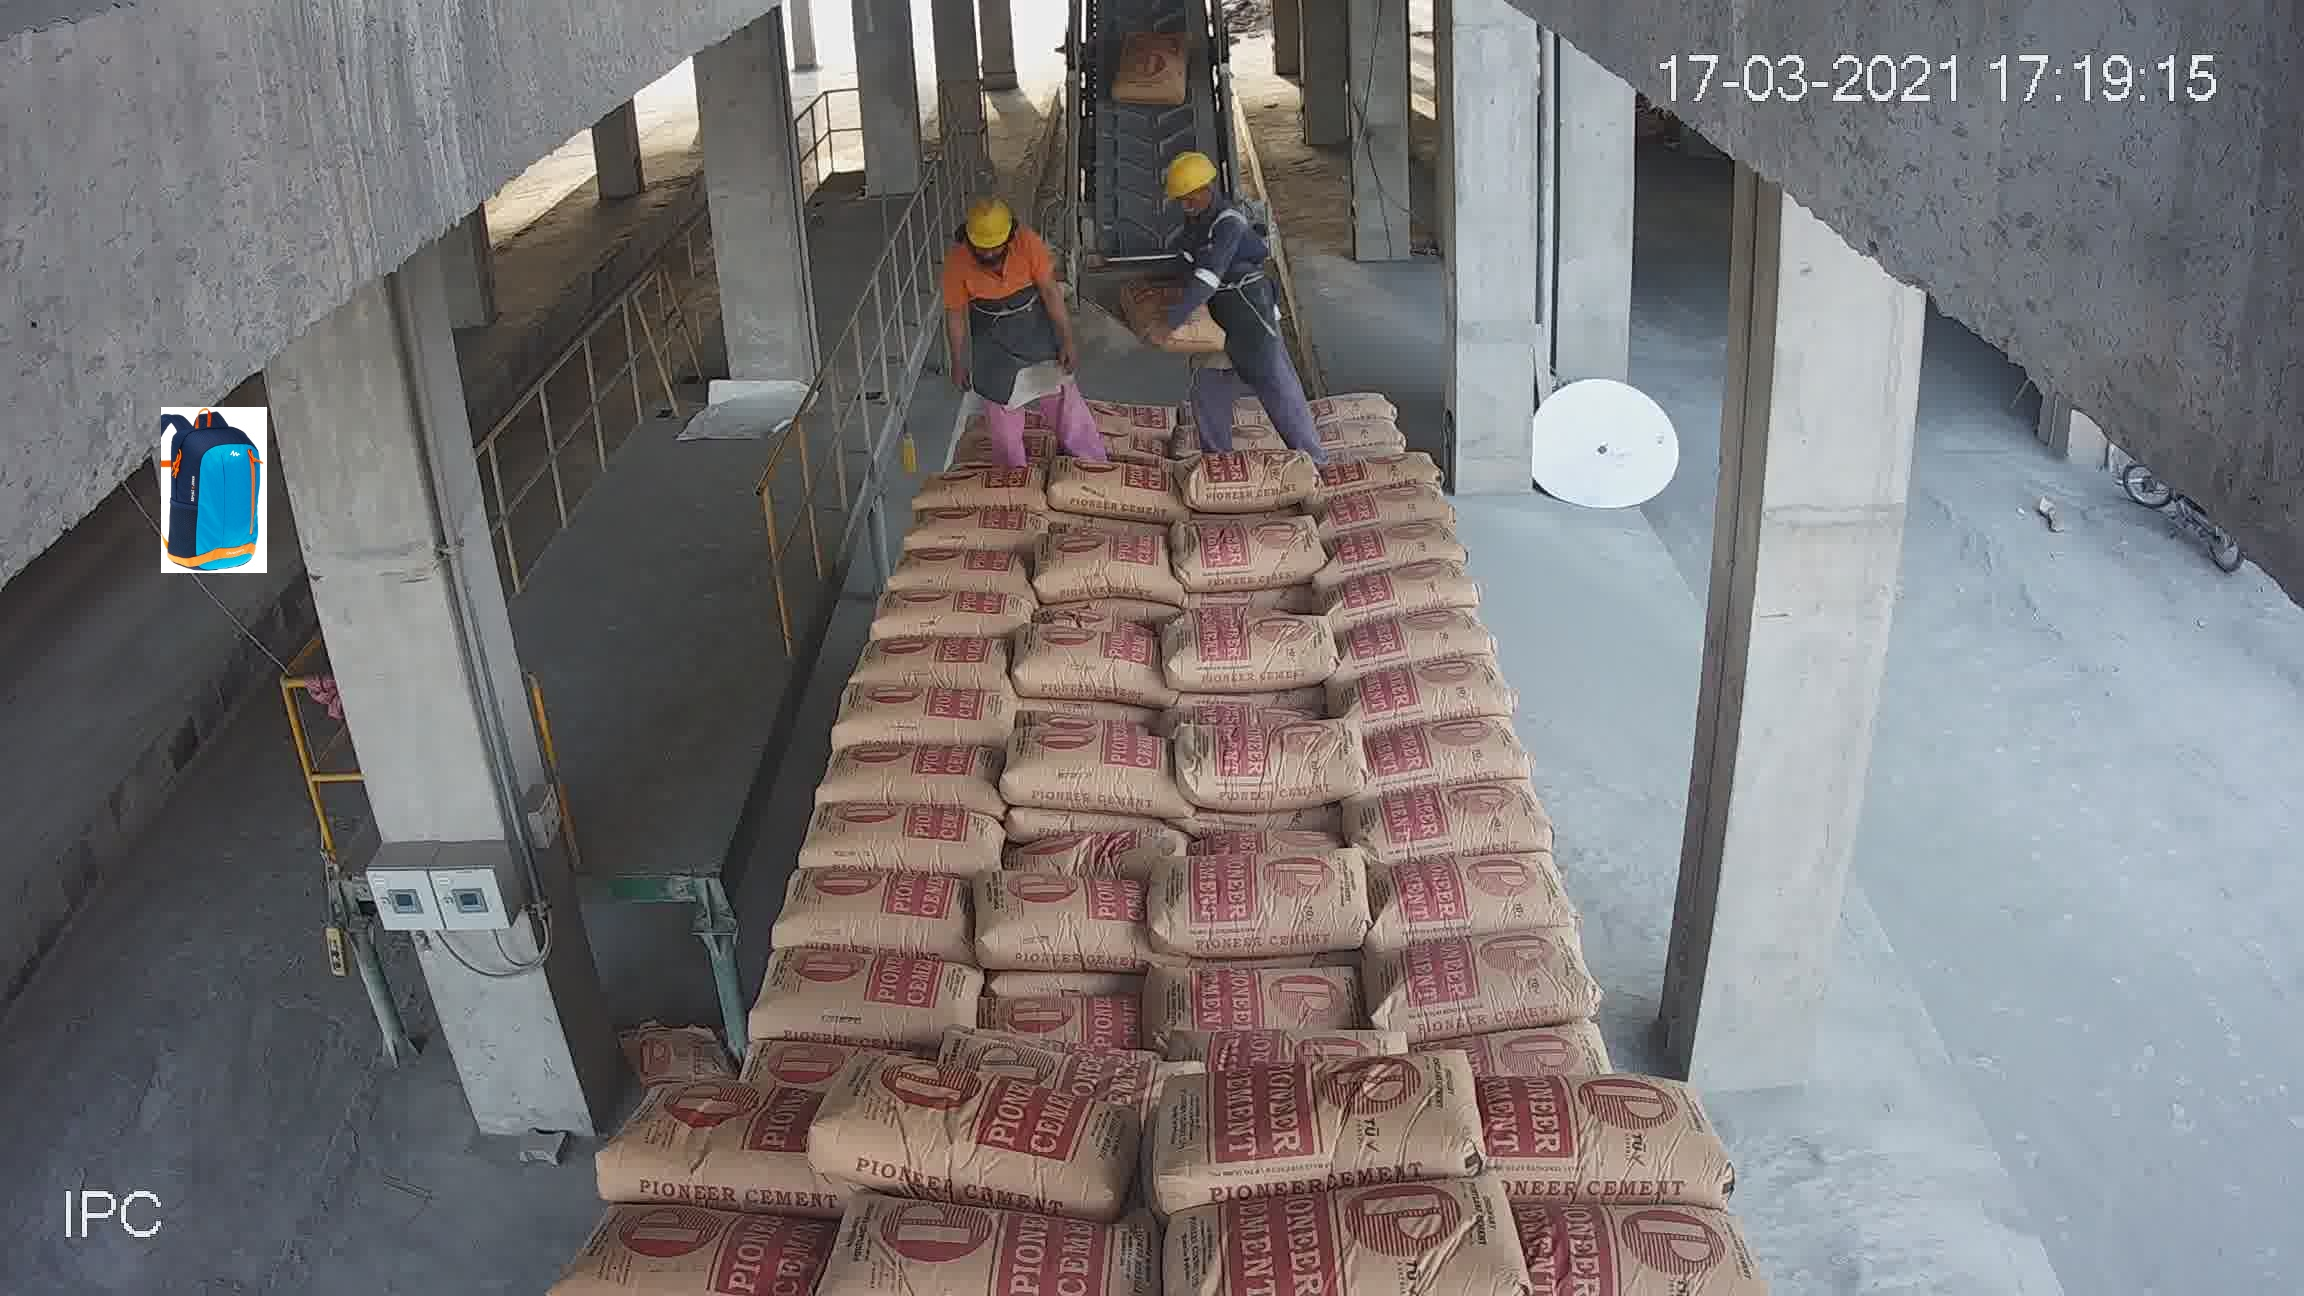bag: (1116, 35, 1192, 108)
bag_h: (804, 1030, 1144, 1204), (1146, 1055, 1476, 1204), (1185, 1173, 1544, 1296), (608, 1076, 840, 1214), (1484, 1079, 1733, 1199), (840, 1203, 1165, 1293), (744, 938, 1000, 1038), (1160, 853, 1375, 957), (1385, 930, 1603, 1033), (570, 1204, 831, 1283), (1163, 725, 1375, 817), (999, 707, 1171, 817), (767, 859, 973, 949), (954, 878, 1144, 975), (1521, 1214, 1755, 1291), (815, 728, 1021, 813), (1369, 766, 1556, 859), (1388, 850, 1563, 948), (802, 796, 1019, 870), (1154, 506, 1340, 589), (1146, 954, 1374, 1021), (1158, 1019, 1416, 1078), (1158, 612, 1340, 690), (1358, 711, 1524, 791), (829, 676, 1029, 741), (853, 609, 999, 692), (864, 563, 1032, 635), (964, 1025, 1218, 1071), (1030, 517, 1166, 600), (975, 980, 1150, 1041), (1468, 1022, 1624, 1090), (1014, 635, 1152, 707), (1342, 562, 1492, 628), (1356, 658, 1513, 722), (1310, 475, 1461, 540), (1182, 445, 1329, 510), (1030, 820, 1184, 878), (1342, 521, 1472, 587), (880, 543, 1040, 597), (1337, 612, 1495, 665), (907, 453, 1033, 511), (1044, 457, 1180, 510), (904, 505, 1040, 555), (1320, 441, 1443, 495), (1081, 377, 1184, 437), (1309, 415, 1408, 449), (1313, 394, 1404, 426)
bag_v: (1120, 255, 1215, 351)
belt: (1062, 6, 1242, 302)
